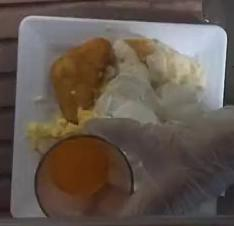hash: (50, 38, 117, 124)
scrambled_eggs: (29, 109, 93, 139)
